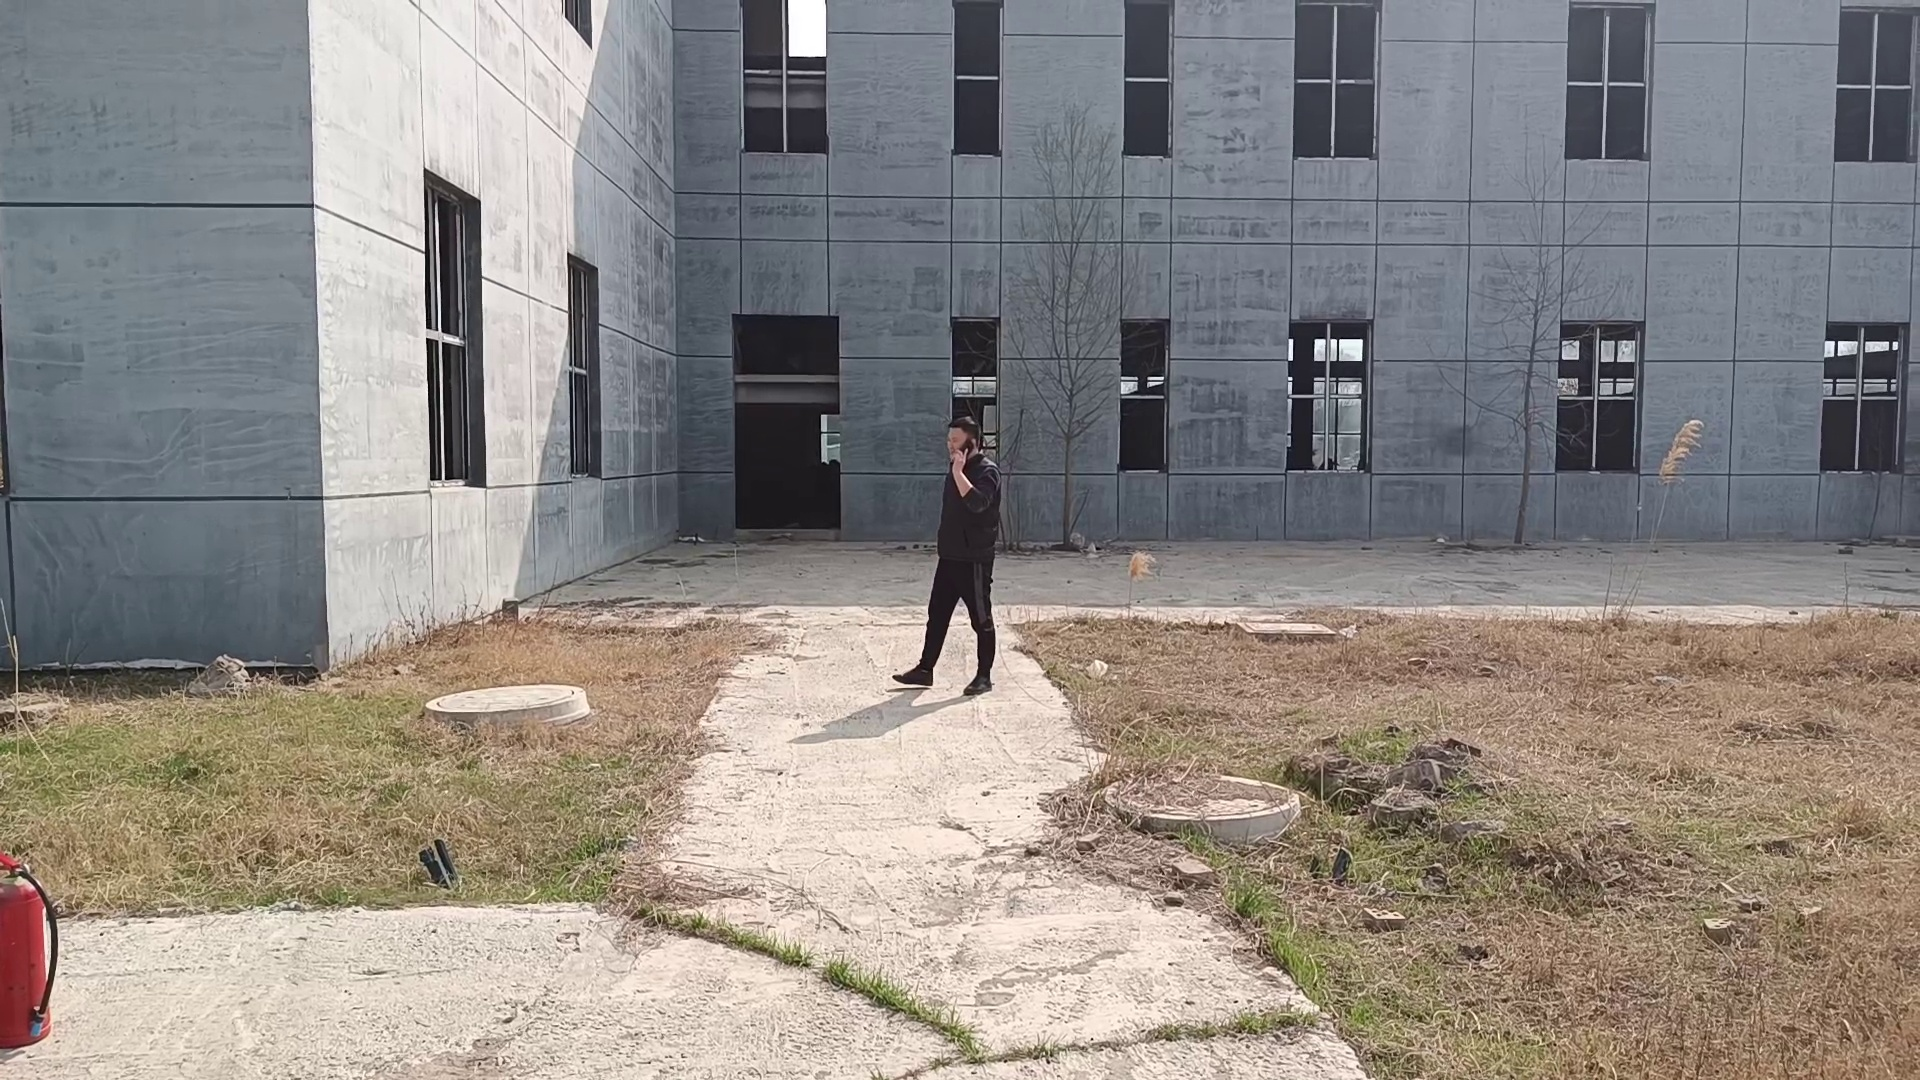phone: (942, 421, 982, 479)
